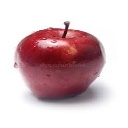apple: (12, 20, 110, 100)
